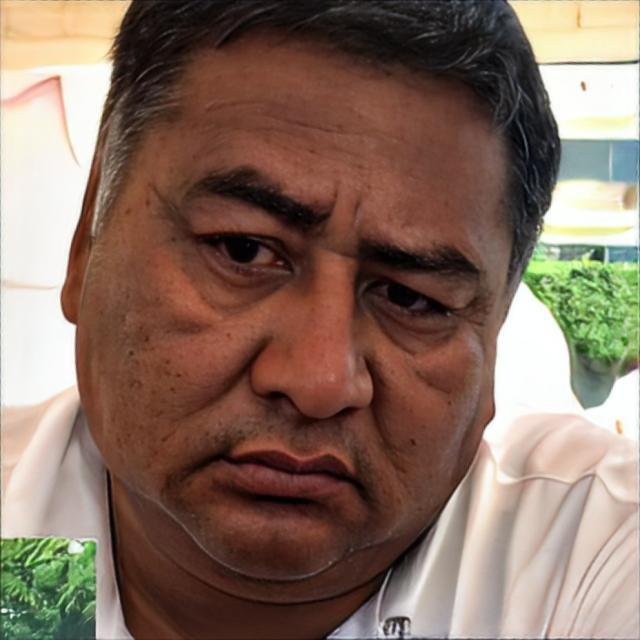sad: (76, 35, 520, 582)
